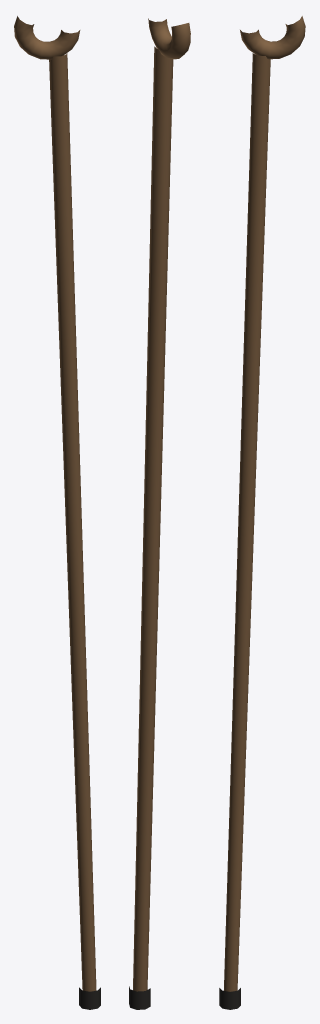
The model's file is walking_stick_m.glb.
3 renders of one model, left to right at view 1: azimuth 90°, elevation 25°; view 2: azimuth 210°, elevation 25°; view 3: azimuth 270°, elevation 25°, orthographic. The views are drawn at different scales.
Visible parts, largest first — view 1: hair; view 2: hair; view 3: hair.
Part boxes in pixels (left/top/right/bottom): hair: left=14, top=16, right=100, bottom=1009; hair: left=129, top=18, right=190, bottom=1009; hair: left=219, top=16, right=305, bottom=1009.
Size of the model in its own units: 0.0325 by 1.2 by 0.0953.
